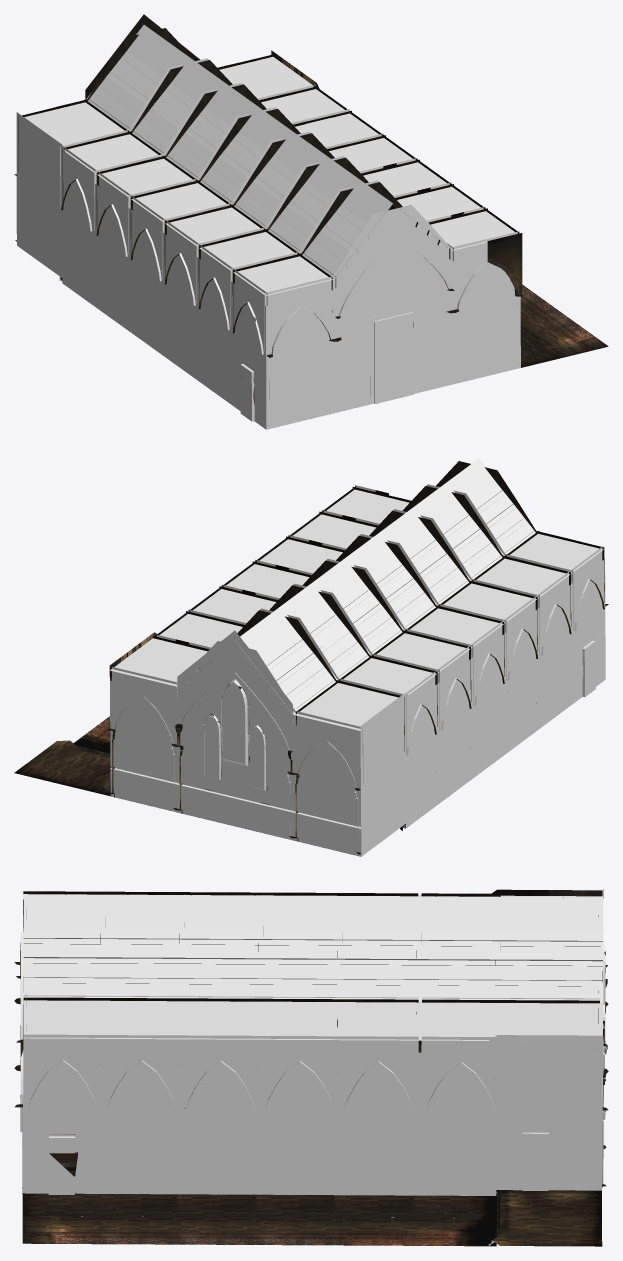
The model's file is cathedral.glb.
3 renders of one model, top to bottom at view 1: azimuth 30°, elevation 25°; view 2: azimuth 150°, elevation 25°; view 3: azimuth 270°, elevation 25°, orthographic. The views are drawn at different scales.
Visible parts, largest first — view 1: Material3, Material2, Material3_8, Material3_7, Material3_3; view 2: Material3, Material2, Material3_9, Material3_8; view 3: Material3, Material3_8, Material3_7, Material3_9, Material2.
Part boxes in pixels (left/top/right/bottom): Material3: left=16, top=25, right=520, bottom=429; Material2: left=14, top=28, right=523, bottom=357; Material3_8: left=520, top=284, right=608, bottom=358; Material3_7: left=253, top=330, right=559, bottom=421; Material3_3: left=85, top=14, right=200, bottom=99; Material3: left=110, top=458, right=605, bottom=856; Material2: left=108, top=461, right=608, bottom=854; Material3_9: left=14, top=740, right=405, bottom=854; Material3_8: left=73, top=716, right=110, bottom=753; Material3: left=20, top=894, right=607, bottom=1245; Material3_8: left=22, top=1134, right=496, bottom=1246; Material3_7: left=22, top=1152, right=496, bottom=1218; Material3_9: left=489, top=1190, right=602, bottom=1246; Material2: left=14, top=891, right=608, bottom=1191.
Bounding box in the file's own units: 13.03 × 7.2 × 16.26.
12 materials, 12 textured.
